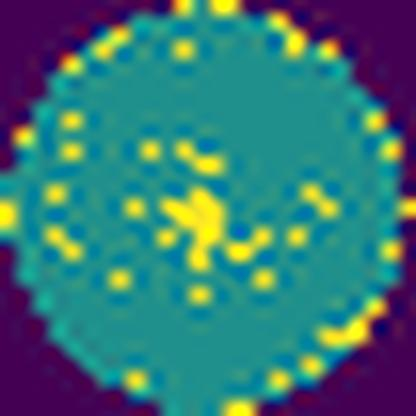Center: (152, 178, 232, 274)
